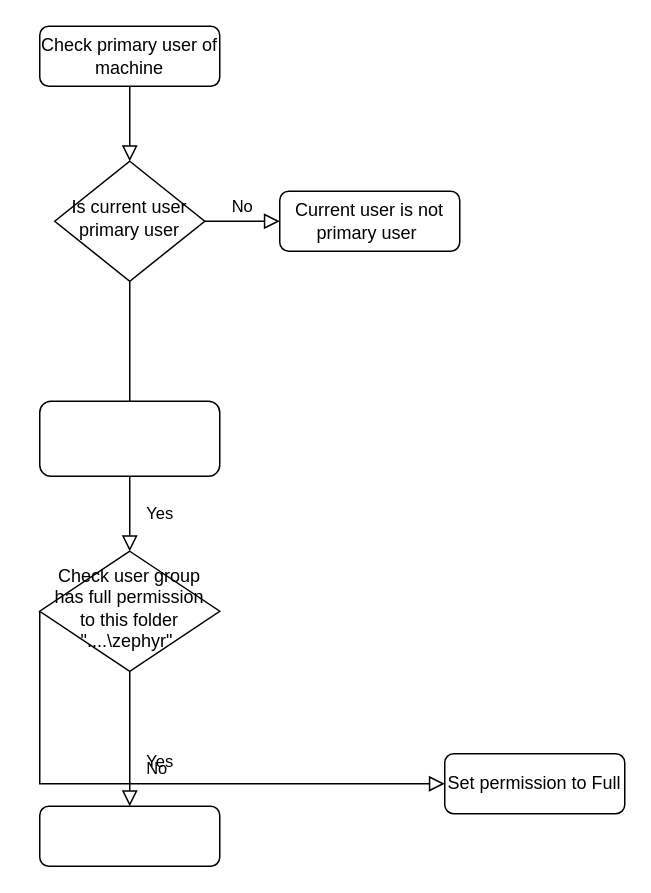
Some shapes in this 651 by 893 pixel diagram are drawn without their labels. The shapes that lost their labels are listed below. From the top down, each one's box as (x1, y1, x2, y2) in pixels, then its label:
(38, 400, 220, 476): Check user group has modify permission to this folder "....\zephyr"
(38, 805, 220, 866): Repair Lamp
